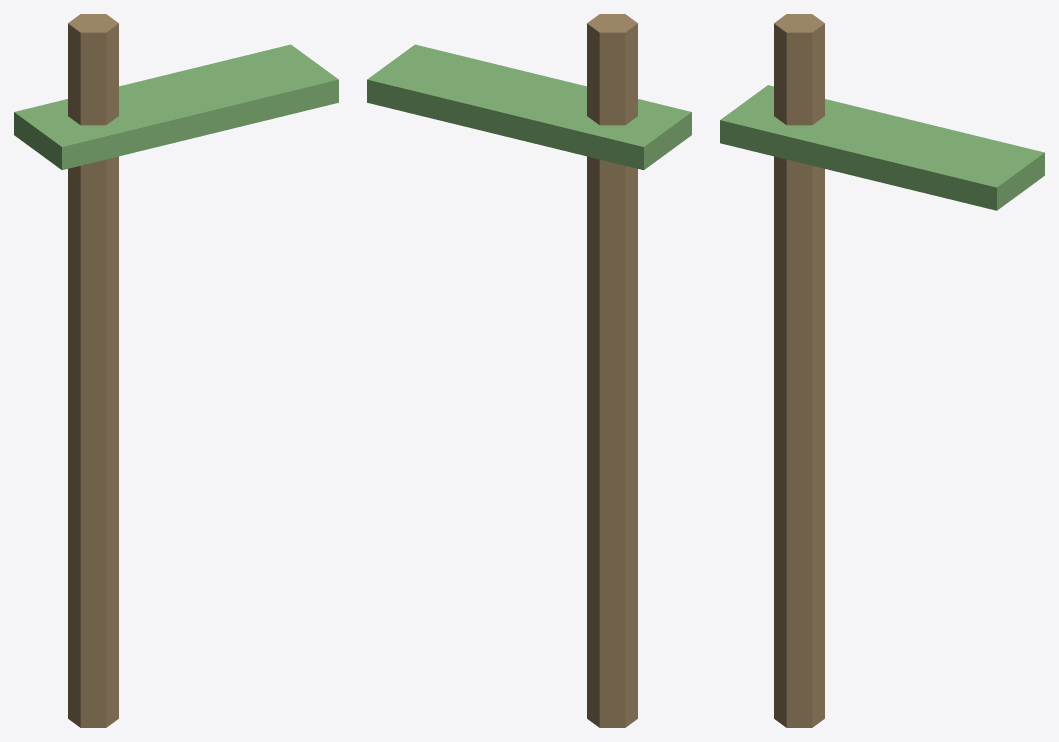
File: sign_directional.glb
3 renders of one model, left to right at view 1: azimuth 30°, elevation 25°; view 2: azimuth 150°, elevation 25°; view 3: azimuth 330°, elevation 25°, orthographic.
Visible parts, largest first — view 1: SignDirectional; view 2: SignDirectional; view 3: SignDirectional.
Boxes of the visible parts, x1,y1,x2,y2 form: SignDirectional: (14,14,338,727); SignDirectional: (367,14,691,727); SignDirectional: (720,14,1044,727).
Bounding box in the file's own units: 0.5 × 1.2 × 0.15.
